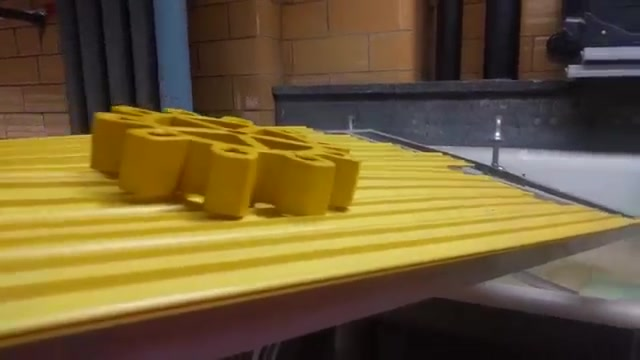gear: (80, 86, 365, 225)
